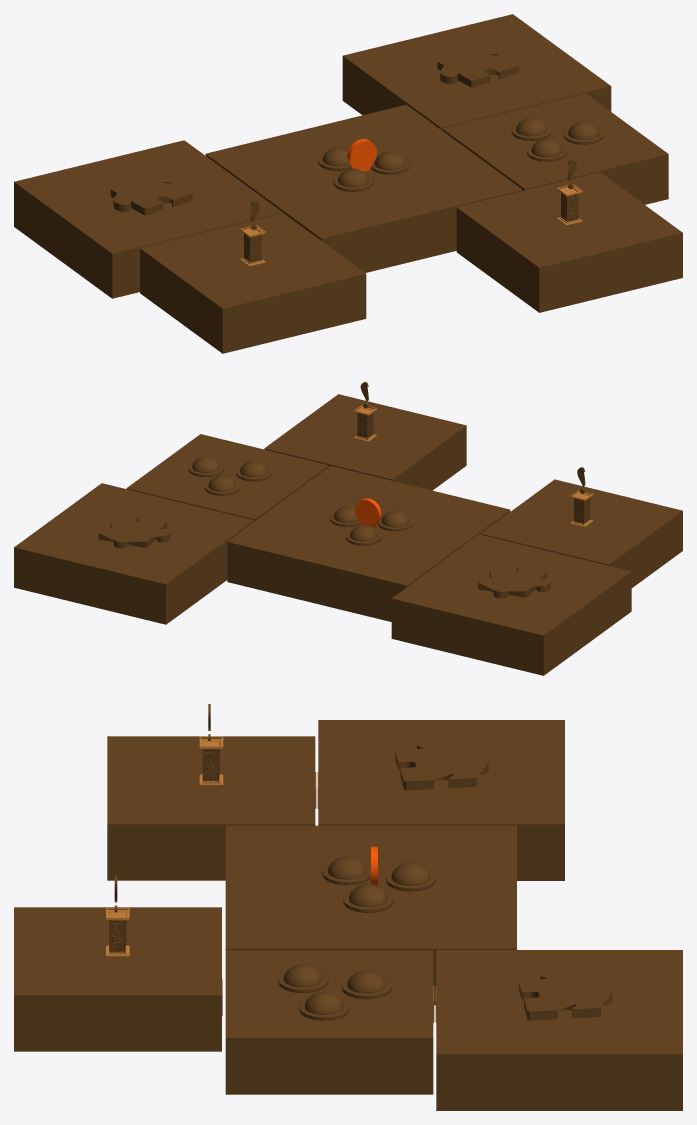
File: whole_mini_map.fbx
The picture shows the model from 3 angles, top to bottom: view 1: azimuth 30°, elevation 25°; view 2: azimuth 150°, elevation 25°; view 3: azimuth 270°, elevation 25°; orthographic projection. The views are drawn at different scales.
Parts seen in each view (by area): view 1: Cover.012, Jigsaw, Cover.006, Cover.010, Cover.007, Cover.008, PinMap; view 2: Cover.012, Jigsaw, Cover.007, Cover.006, Cover.010, Cover.008, PinMap; view 3: Cover.007, Cover.012, Cover.008, Cover.010, Jigsaw, Cover.006.
Part boxes in pixels (<box>): Cover.012: <box>205,104,522,272</box>; Jigsaw: <box>14,140,282,298</box>; Cover.006: <box>140,200,366,353</box>; Cover.010: <box>456,160,682,312</box>; Cover.007: <box>342,14,611,130</box>; Cover.008: <box>442,93,668,204</box>; PinMap: <box>347,139,376,171</box>; Cover.012: <box>227,466,510,621</box>; Jigsaw: <box>391,534,631,675</box>; Cover.007: <box>14,483,253,624</box>; Cover.006: <box>480,467,682,587</box>; Cover.010: <box>264,382,466,490</box>; Cover.008: <box>126,434,328,521</box>; PinMap: <box>355,498,381,527</box>; Cover.007: <box>436,950,682,1110</box>; Cover.012: <box>225,825,516,1005</box>; Cover.008: <box>225,950,433,1094</box>; Cover.010: <box>14,875,221,1051</box>; Jigsaw: <box>318,720,564,880</box>; Cover.006: <box>107,704,315,880</box>.
Size of the model in its own units: 42.16 by 7.77 by 35.66.
